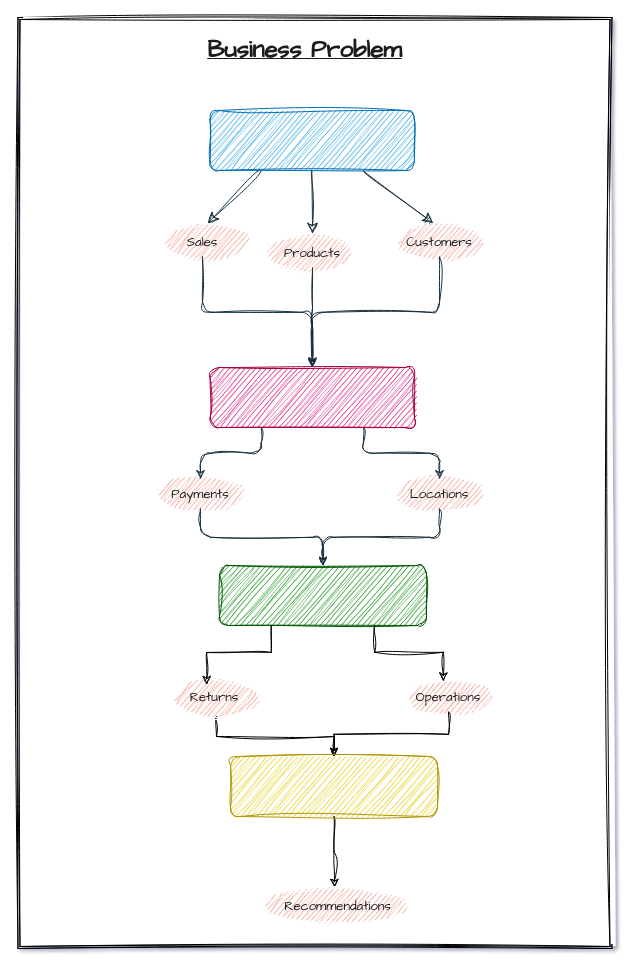
Image size: 635x972. Some labels were removed from this diagram. The box of each missing label's shape, as (x1, y1, x2, y2) in pixels:
How is NovaMart performing?: (209, 110, 414, 170)
What is driving sales?: (209, 366, 414, 428)
What should we do?: (230, 756, 438, 816)
Where are problems?: (218, 564, 426, 626)
